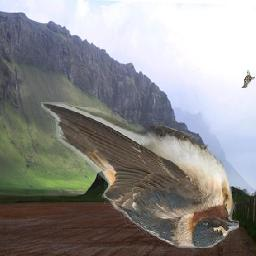Sparrow: (241, 70, 255, 88)
Swallow: (41, 102, 239, 248)
